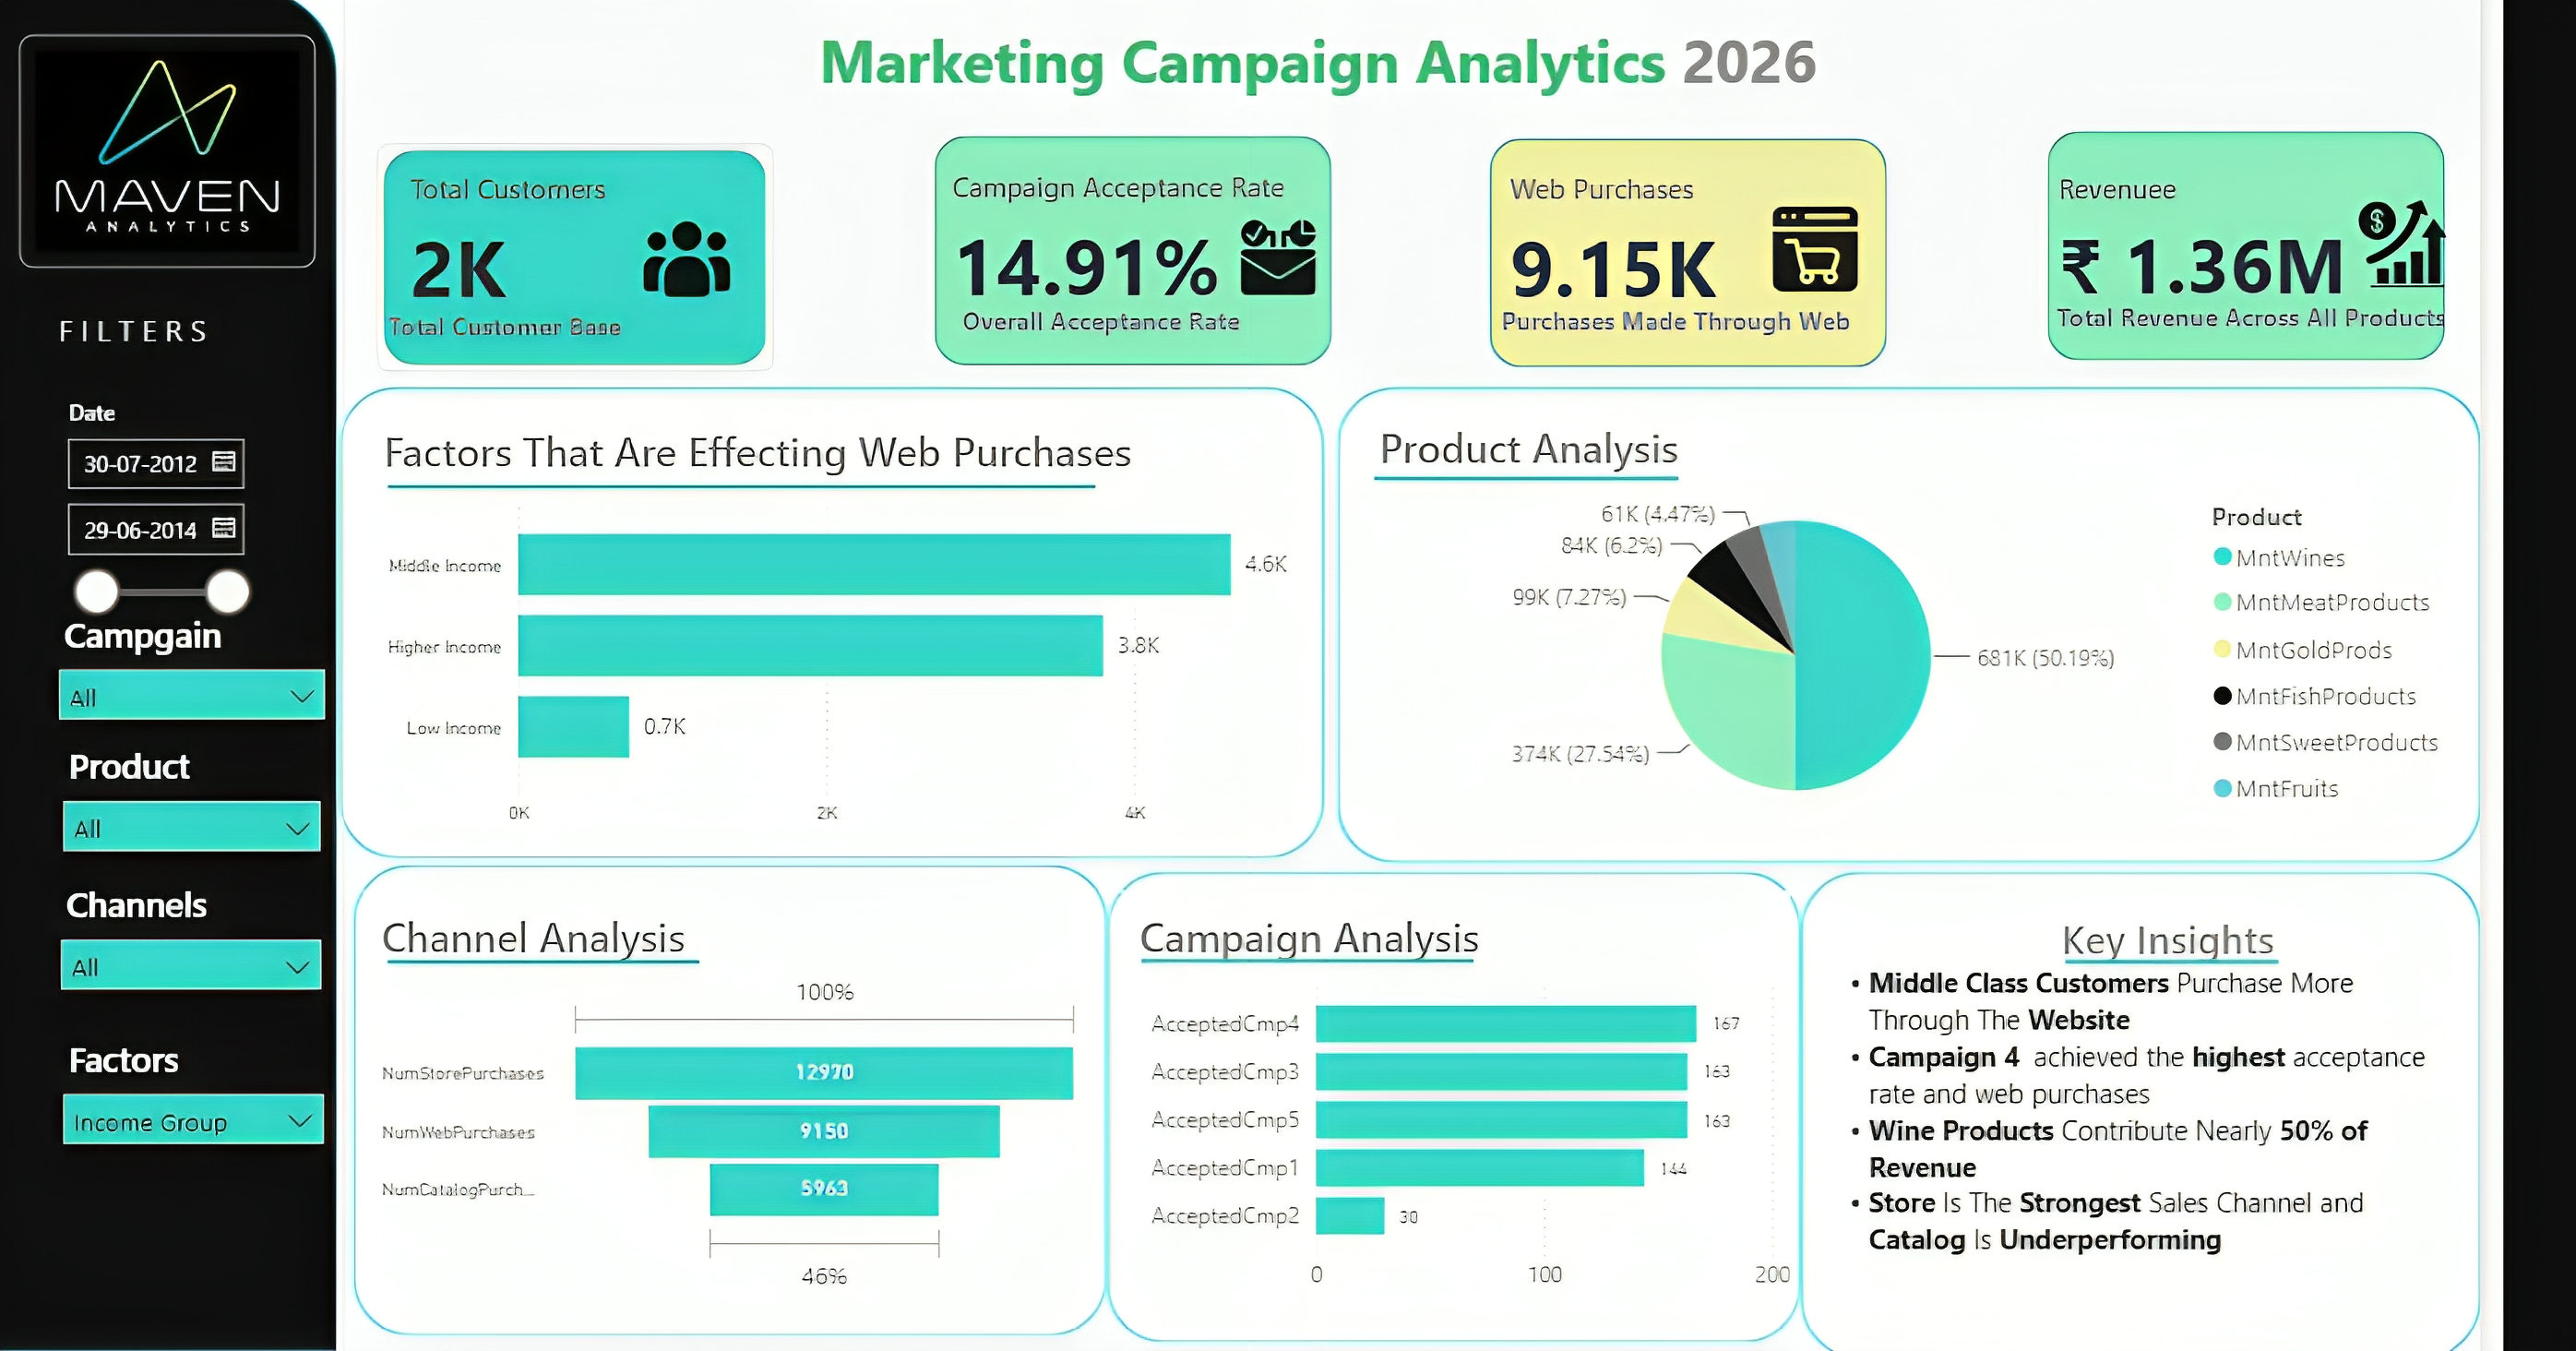

Layout of this report page (visuals, bound fields, positions):
{"tool":"powerbi","page":{"name":" Executive Overview","canvas":[1360,750],"ordinal":0},"visuals":[{"type":"shape","box":[1025.5,485.1,334.3,265.2],"z":0},{"type":"shape","box":[643.4,485.1,374.5,256.4],"z":1000},{"type":"shape","box":[194.8,485.1,434.8,252.6],"z":2000},{"type":"shape","box":[736.4,221.2,623.3,258.9],"z":3000},{"type":"shape","box":[192.3,221.2,536.6,256.4],"z":4000},{"type":"shape","box":[819.9,85.8,216.5,124.8],"z":5000},{"type":"shape","box":[1123.5,81.5,216.5,124.8],"z":6000},{"type":"shape","box":[516.3,83.6,216.5,124.8],"z":7000},{"type":"shape","box":[212.7,87.9,216.5,124.8],"z":8000},{"type":"barChart","title":"Factors That Are Effecting Web Purchases","fields":{"Category":["marketing_data.Income Group"],"Y":["marketing_data.Web Purchases"]},"box":[206.1,231.2,509,235],"z":9000},{"type":"textbox","box":[30.8,45.5,48.7,20],"z":10000},{"type":"funnel","title":"Channel Analysis","fields":{"Category":["Channel Analysis.Channels"],"Y":["CountNonNull(Channel Analysis.Purchases)"]},"box":[206.1,497.7,417.2,222.4],"z":11000},{"type":"textbox","box":[509,16.3,742.7,65.3],"z":12000},{"type":"cardVisual","fields":{"Data":["_Measures.Revenue CY vs Revenue LY %"]},"box":[10,10,64.1,35.9],"z":13000},{"type":"cardVisual","fields":{"Data":["marketing_data.Total Customers"]},"box":[213.6,99.3,189.8,86.7],"z":15000},{"type":"shape","box":[0,0,194.9,750.3],"z":16000},{"type":"pieChart","title":"Product Analysis","fields":{"Category":["Product Analysis.Product"],"Y":["Sum(Product Analysis.Sales)"]},"box":[749,228.7,596.9,237.5],"z":17000},{"type":"barChart","title":"Campaign Analysis","fields":{"Category":["Campaign Analysis.Campaign"],"Y":["Sum(Campaign Analysis.Accepted)"]},"box":[656,497.7,356.9,218.7],"z":18000},{"type":"textbox","box":[34.4,173.2,179.6,44.6],"z":19000},{"type":"slicer","fields":{"Values":["Product Analysis.Product"]},"box":[31.8,410.2,160.5,75.2],"z":20000},{"type":"slicer","fields":{"Values":["Campaign Analysis.Campaign"]},"box":[29.3,337.6,165.6,76.4],"z":21000},{"type":"slicer","fields":{"Values":["Factors 2.Factors"]},"box":[31.8,569.4,161.8,75.2],"z":22000},{"type":"image","box":[8.8,42.7,178.5,108.1],"z":23000},{"type":"slicer","fields":{"Values":["Channel Analysis.Channels"]},"box":[30.6,485.3,161.8,75.2],"z":24000},{"type":"slicer","fields":{"Values":["marketing_data.Dt_Customer"]},"box":[28.9,228.7,135.7,98],"z":25000},{"type":"textbox","box":[214,173.2,178.3,47.1],"z":26000},{"type":"cardVisual","fields":{"Data":["marketing_data.Campaign Acceptance Rate"]},"box":[509.5,99.4,228,84.1],"z":27000},{"type":"textbox","box":[526.1,170.7,206.4,47.1],"z":28000},{"type":"textbox","box":[820.3,170.7,205.1,65],"z":29000},{"type":"textbox","box":[1128.5,169.7,231.2,55.3],"z":30000},{"type":"cardVisual","fields":{"Data":["marketing_data.Web Purchases"]},"box":[812.7,99.4,169.4,86.6],"z":31000},{"type":"cardVisual","fields":{"Data":["marketing_data.Revenuee"]},"box":[1112.2,99.3,227.5,84.2],"z":32000},{"type":"shape","box":[216.2,231.2,385.8,80.4],"z":33000},{"type":"shape","box":[756.5,148.3,165.9,237.5],"z":34000},{"type":"shape","box":[218.7,414.7,163.4,238.8],"z":35000},{"type":"shape","box":[669.8,423.5,174.7,230],"z":36000},{"type":"textbox","box":[1035.5,497.7,314.2,233.7],"z":37000},{"type":"shape","box":[1172.5,414.7,108.1,228.7],"z":38000},{"type":"image","box":[353.1,115.6,57,71.6],"z":39000},{"type":"image","box":[676.1,114.4,56.6,71.6],"z":40000},{"type":"image","box":[968.9,110.6,56.6,70.4],"z":41000},{"type":"image","box":[1288.1,80.4,57.8,124.4],"z":42000}]}

Visuals, with their boxes on the page's 1360x750 design canvas (x1, y1, x2, y2). These are canvas units, not pixel positions in the 2576x1351 screenshot, which may show the page scaled, cropped or inside an application window:
shape: [1026,485,1360,750]
shape: [643,485,1018,742]
shape: [195,485,630,738]
shape: [736,221,1360,480]
shape: [192,221,729,478]
shape: [820,86,1036,211]
shape: [1124,82,1340,206]
shape: [516,84,733,208]
shape: [213,88,429,213]
"Factors That Are Effecting Web Purchases" barChart: [206,231,715,466]
textbox: [31,46,80,66]
"Channel Analysis" funnel: [206,498,623,720]
textbox: [509,16,1252,82]
cardVisual - _Measures.Revenue CY vs Revenue LY %: [10,10,74,46]
cardVisual - marketing_data.Total Customers: [214,99,403,186]
shape: [0,0,195,750]
"Product Analysis" pieChart: [749,229,1346,466]
"Campaign Analysis" barChart: [656,498,1013,716]
textbox: [34,173,214,218]
slicer - Product Analysis.Product: [32,410,192,485]
slicer - Campaign Analysis.Campaign: [29,338,195,414]
slicer - Factors 2.Factors: [32,569,194,645]
image: [9,43,187,151]
slicer - Channel Analysis.Channels: [31,485,192,560]
slicer - marketing_data.Dt_Customer: [29,229,165,327]
textbox: [214,173,392,220]
cardVisual - marketing_data.Campaign Acceptance Rate: [510,99,738,184]
textbox: [526,171,732,218]
textbox: [820,171,1025,236]
textbox: [1128,170,1360,225]
cardVisual - marketing_data.Web Purchases: [813,99,982,186]
cardVisual - marketing_data.Revenuee: [1112,99,1340,184]
shape: [216,231,602,312]
shape: [756,148,922,386]
shape: [219,415,382,654]
shape: [670,424,844,654]
textbox: [1036,498,1350,731]
shape: [1172,415,1281,643]
image: [353,116,410,187]
image: [676,114,733,186]
image: [969,111,1026,181]
image: [1288,80,1346,205]
